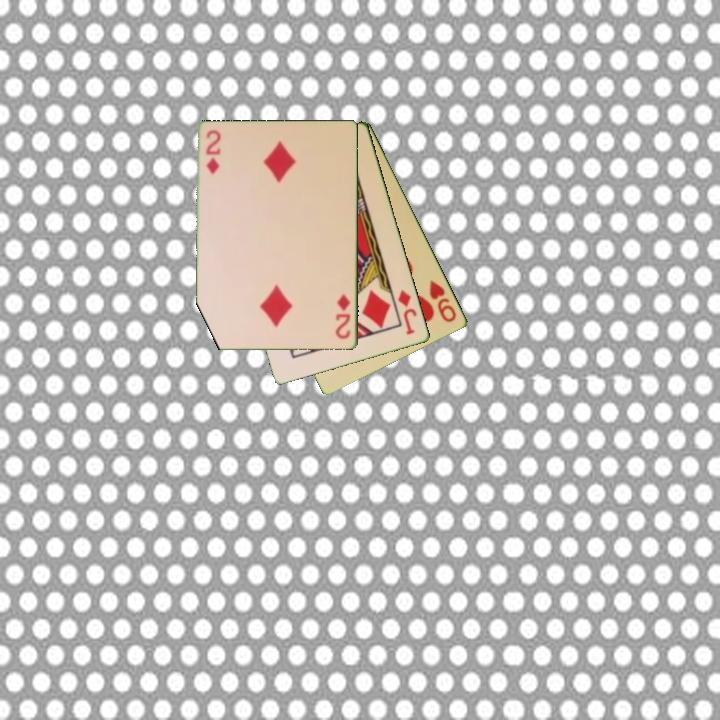2d: (332, 291, 354, 342), (203, 127, 222, 177)
9h: (426, 277, 460, 326)
Jd: (394, 287, 420, 338)
